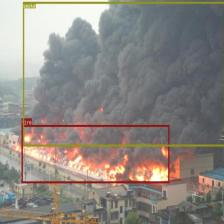fire: (21, 125, 169, 183)
smoke: (22, 1, 224, 146)
